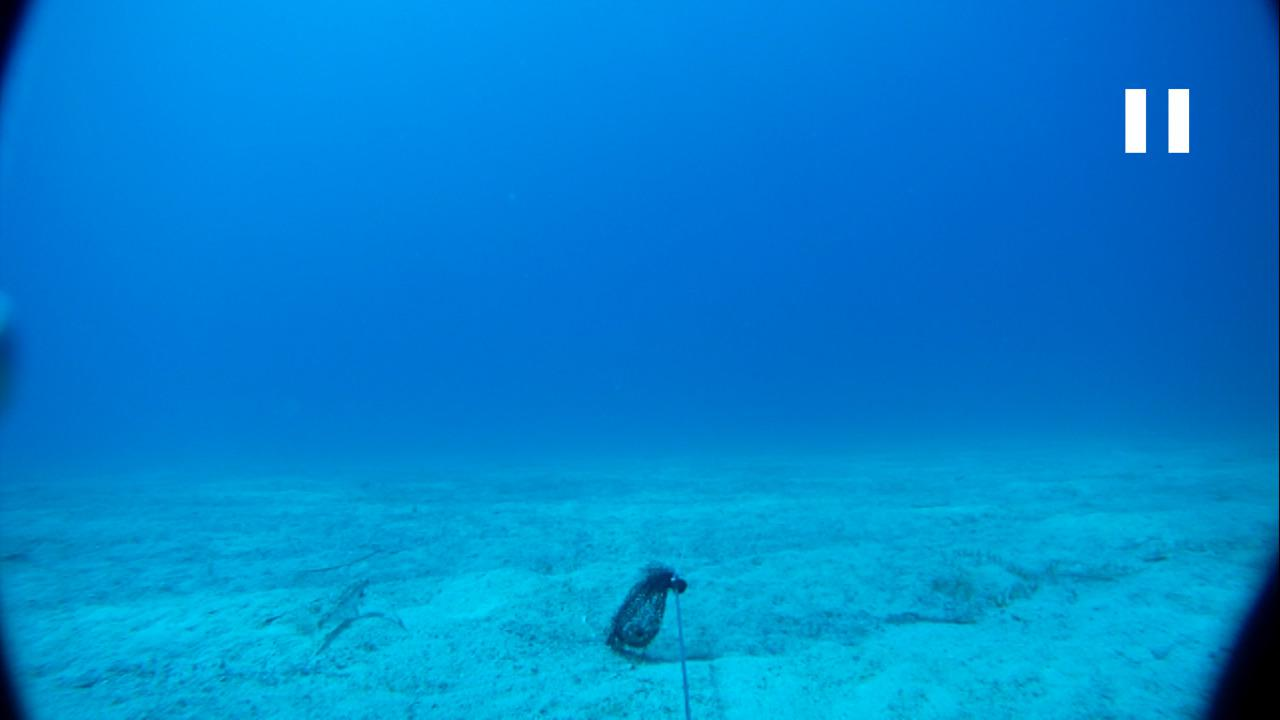dactylopterus: (279, 567, 401, 655)
